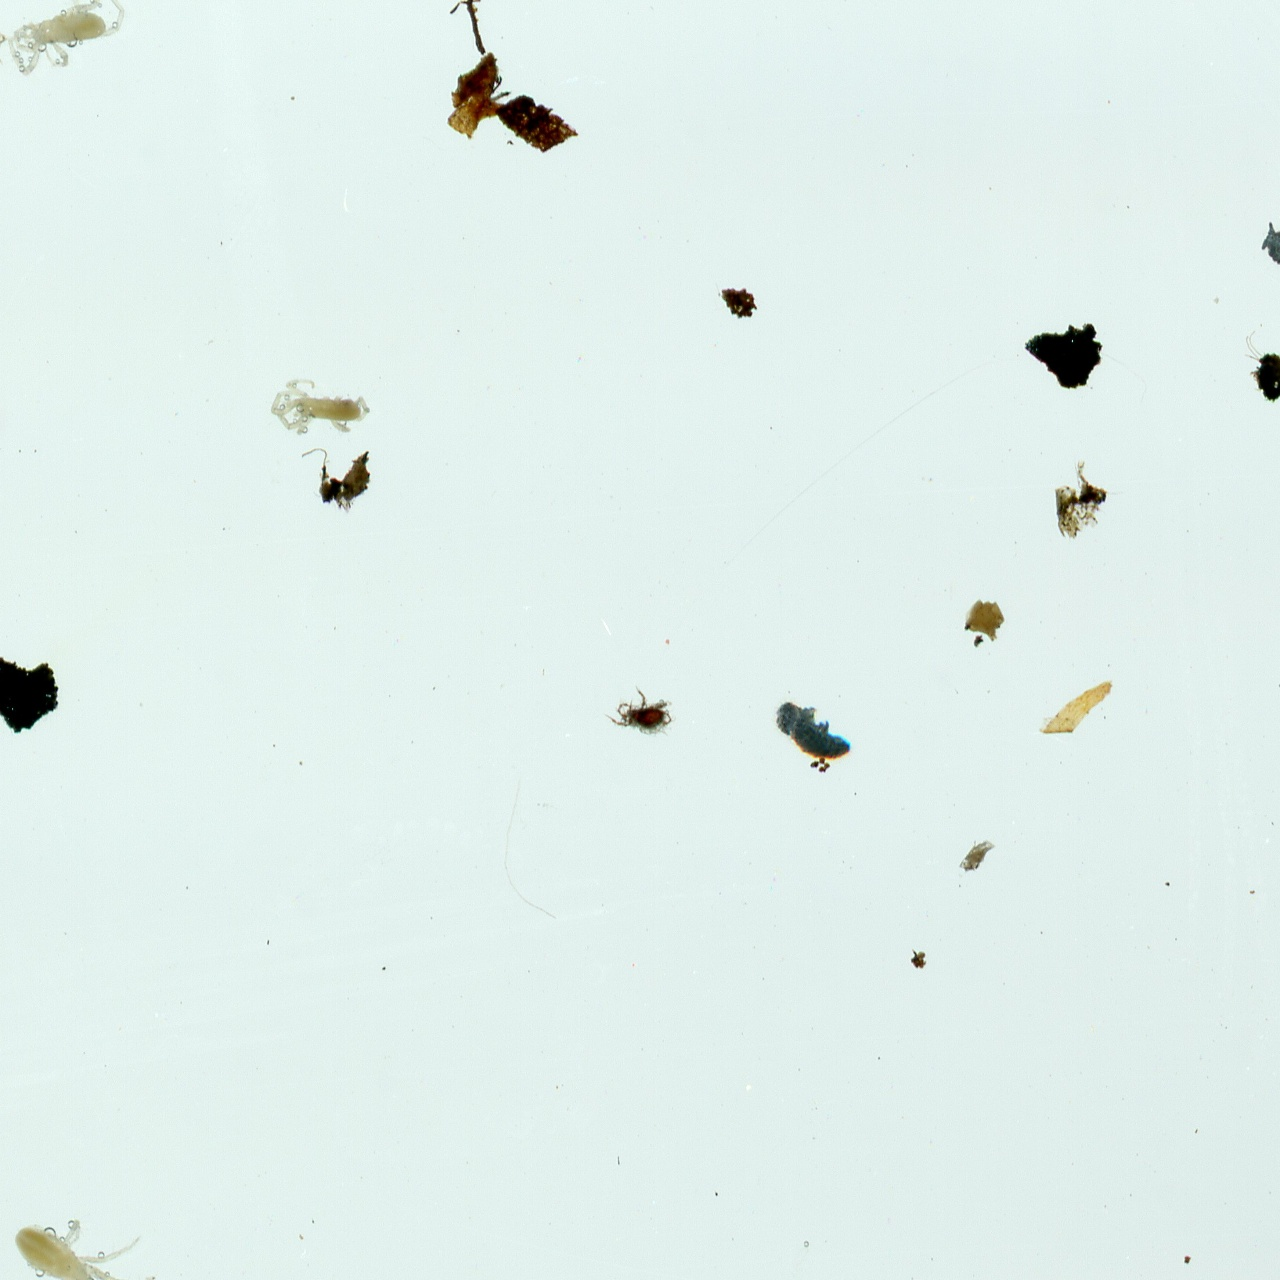arthropod: (0, 0, 156, 101), (2, 1209, 168, 1280), (761, 685, 863, 781), (268, 375, 372, 437), (600, 682, 680, 740), (1248, 211, 1280, 297)
